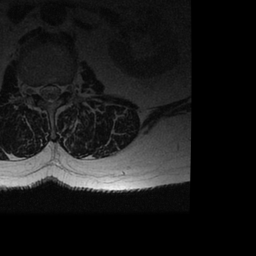CCS_normal: (46, 77, 54, 108)
LFS_stenosis: (62, 77, 70, 98)
LLS_normal: (53, 77, 62, 102)
RFS_normal: (30, 78, 37, 102)
RLS_normal: (37, 78, 46, 102)
